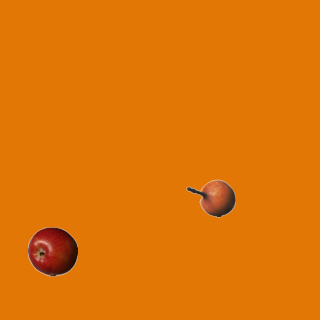Apple Braeburn: (27, 226, 77, 276)
Granadilla: (185, 173, 235, 223)
